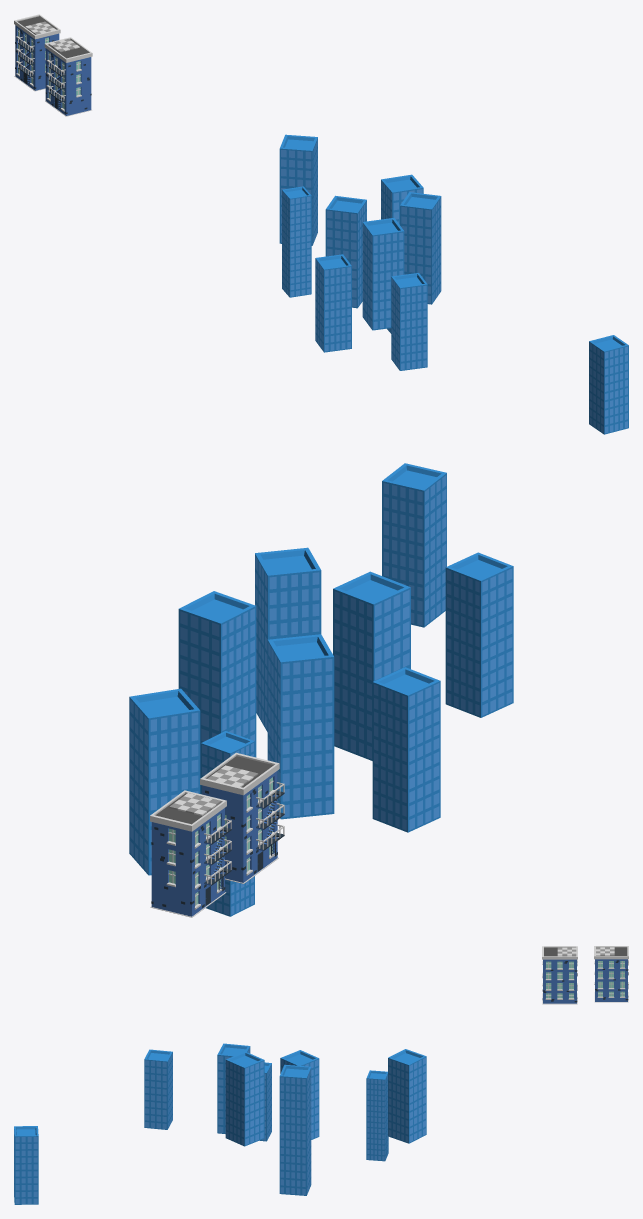
File: Rope_battle_scene.fbx
3 renders of one model, top to bottom at view 1: azimuth 30°, elevation 25°; view 2: azimuth 150°, elevation 25°; view 3: azimuth 270°, elevation 25°, orthographic. The views are drawn at different scales.
Visible parts, largest first — view 1: Cube.038, Cube.041, Cube.037, Cube.039, Cube.040, Cube.035, House_21.003, Cube.036, Cube.033, House_21.002, Cube.034; view 2: Cube.036, Cube.038, Cube.039, Cube.040, Cube.034, Cube.033, Cube.041, House_21.002, Cube.037, House_21.003, Cube.035, Cube (+1 smaller); view 3: Cube.034, Cube.037, Cube.033, Cube.040, Cube.035, Cube.041, House_21.003, House_21.002, Cube.036, Cube.038, Cube.039.
Part boxes in pixels (left/top/right/bottom): Cube.038: left=362, top=218, right=404, bottom=330; Cube.041: left=589, top=335, right=628, bottom=434; Cube.037: left=400, top=192, right=441, bottom=304; Cube.039: left=315, top=254, right=351, bottom=352; Cube.040: left=391, top=273, right=427, bottom=370; Cube.035: left=282, top=186, right=311, bottom=297; House_21.003: left=44, top=37, right=92, bottom=116; Cube.036: left=325, top=195, right=366, bottom=308; Cube.033: left=279, top=134, right=317, bottom=245; House_21.002: left=14, top=14, right=60, bottom=91; Cube.034: left=381, top=174, right=423, bottom=333; Cube.036: left=267, top=634, right=334, bottom=819; Cube.038: left=333, top=571, right=410, bottom=760; Cube.039: left=372, top=667, right=440, bottom=832; Cube.040: left=445, top=552, right=513, bottom=717; Cube.034: left=178, top=591, right=256, bottom=793; Cube.033: left=129, top=688, right=200, bottom=875; Cube.041: left=382, top=463, right=446, bottom=627; House_21.002: left=150, top=790, right=231, bottom=917; Cube.037: left=255, top=547, right=321, bottom=731; House_21.003: left=200, top=752, right=284, bottom=883; Cube.035: left=201, top=731, right=254, bottom=916; Cube: left=169, top=793, right=220, bottom=815; Cube.034: left=279, top=1064, right=311, bottom=1195; Cube.037: left=225, top=1051, right=264, bottom=1146; Cube.033: left=388, top=1049, right=426, bottom=1143; Cube.040: left=144, top=1049, right=172, bottom=1129; Cube.035: left=366, top=1070, right=388, bottom=1161; Cube.041: left=14, top=1126, right=38, bottom=1204; House_21.003: left=542, top=946, right=577, bottom=1004; House_21.002: left=594, top=946, right=628, bottom=1002; Cube.036: left=280, top=1050, right=319, bottom=1139; Cube.038: left=217, top=1043, right=250, bottom=1133; Cube.039: left=259, top=1062, right=271, bottom=1141.
Size of the model in its own units: 7984 by 6276 by 20811.
